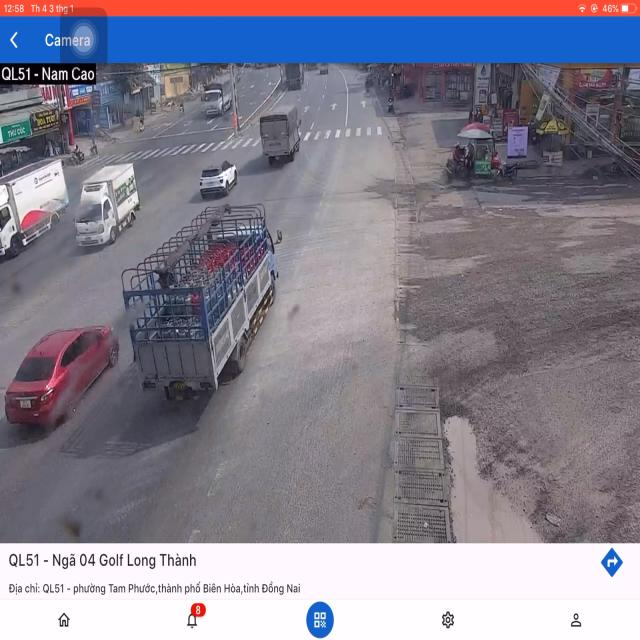car: (5, 322, 121, 434), (200, 158, 238, 200)
truck: (122, 204, 278, 410), (0, 143, 65, 265), (72, 158, 139, 250), (262, 101, 302, 171)
